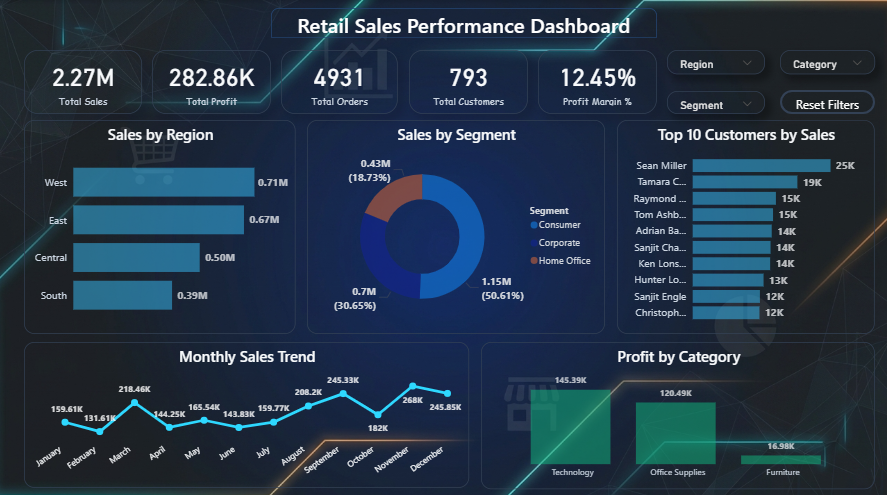

Layout of this report page (visuals, bound fields, positions):
{"tool":"powerbi","page":{"name":"Page 1","canvas":[1280,720],"ordinal":0},"visuals":[{"type":"card","fields":{"Values":["Measures (2).Total Sales"]},"box":[34.6,72,169.9,92.2],"z":0},{"type":"card","fields":{"Values":["Measures (2).Total Profit"]},"box":[219.2,72,171.4,92.2],"z":1000},{"type":"card","fields":{"Values":["Measures (2).Total Orders"]},"box":[405.4,72,168.5,92.2],"z":2000},{"type":"card","fields":{"Values":["Measures (2).Total Customers"]},"box":[588.6,72,171.4,92.2],"z":3000},{"type":"card","fields":{"Values":["Measures (2).Profit Margin %"]},"box":[774.7,72,171.4,92.2],"z":4000},{"type":"clusteredBarChart","title":"Sales by Region","fields":{"Y":["Sum(sales_data.Sales)"],"Category":["sales_data.Region"]},"box":[34.2,172.6,391.3,307.6],"z":5000},{"type":"clusteredColumnChart","title":"Profit by Category","fields":{"Category":["sales_data.Category"],"Y":["Sum(sales_data.Profit)"]},"box":[692.1,492.2,567.4,211.9],"z":6000},{"type":"lineChart","title":"Monthly Sales Trend","fields":{"Category":["sales_data.Order Date.Variation.Date Hierarchy.Month","sales_data.Order Date.Variation.Date Hierarchy.Day"],"Y":["Sum(sales_data.Sales)"]},"box":[34.2,492.2,640.9,210.2],"z":7000},{"type":"clusteredBarChart","title":"Top 10 Customers by Sales","fields":{"Category":["sales_data.Customer Name"],"Y":["Sum(sales_data.Sales)"]},"box":[888.7,172.6,370.8,307.6],"z":8000},{"type":"donutChart","title":"Sales by Segment","fields":{"Category":["sales_data.Segment"],"Y":["Sum(sales_data.Sales)"]},"box":[442.6,172.6,428.9,307.6],"z":9000},{"type":"slicer","fields":{"Values":["sales_data.Region"]},"box":[960.5,72,141.1,34.6],"z":10000},{"type":"slicer","fields":{"Values":["sales_data.Segment"]},"box":[960.5,131,141.1,33.1],"z":11000},{"type":"slicer","fields":{"Values":["sales_data.Category"]},"box":[1123.2,72,136.8,34.6],"z":12000},{"type":"actionButton","title":"Reset Filters","box":[1123.2,129.6,136.8,34.6],"z":13000},{"type":"shape","box":[390.2,11.5,555.8,43.2],"z":14000}]}

Visuals, with their boxes in screenshot pixels (x1, y1, x2, y2), scaled from the page's 1280x720 canvas onto the 887x495 screenshot:
card - Measures (2).Total Sales: Rect(24, 50, 142, 113)
card - Measures (2).Total Profit: Rect(152, 50, 271, 113)
card - Measures (2).Total Orders: Rect(281, 50, 398, 113)
card - Measures (2).Total Customers: Rect(408, 50, 527, 113)
card - Measures (2).Profit Margin %: Rect(537, 50, 656, 113)
"Sales by Region" clusteredBarChart: Rect(24, 119, 295, 330)
"Profit by Category" clusteredColumnChart: Rect(480, 338, 873, 484)
"Monthly Sales Trend" lineChart: Rect(24, 338, 468, 483)
"Top 10 Customers by Sales" clusteredBarChart: Rect(616, 119, 873, 330)
"Sales by Segment" donutChart: Rect(307, 119, 604, 330)
slicer - sales_data.Region: Rect(666, 50, 763, 73)
slicer - sales_data.Segment: Rect(666, 90, 763, 113)
slicer - sales_data.Category: Rect(778, 50, 873, 73)
"Reset Filters" actionButton: Rect(778, 89, 873, 113)
shape: Rect(270, 8, 656, 38)
